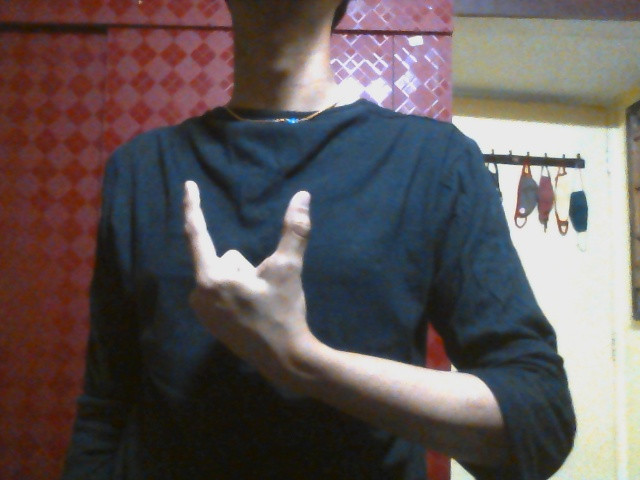U: (179, 177, 323, 339)
